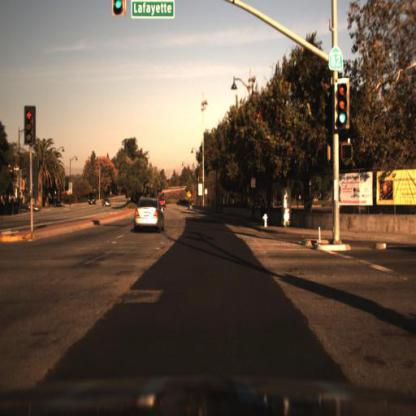car: (133, 196, 166, 237), (87, 189, 99, 209), (100, 198, 114, 212)
